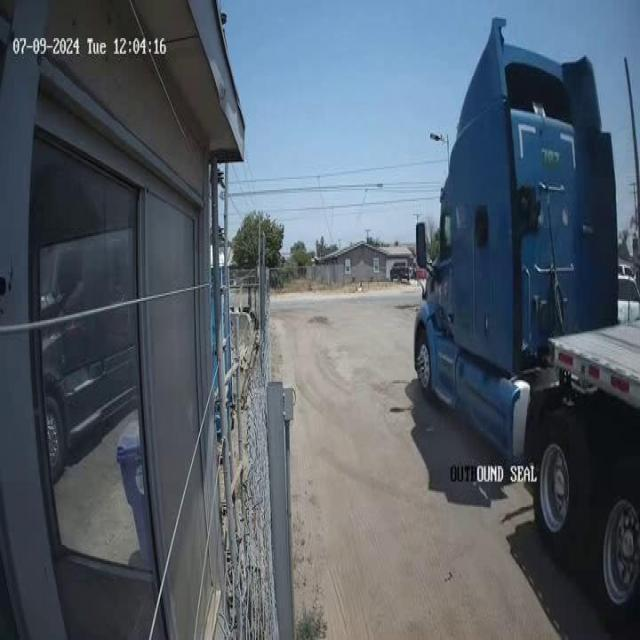BOBTAIL: (414, 15, 640, 626)
